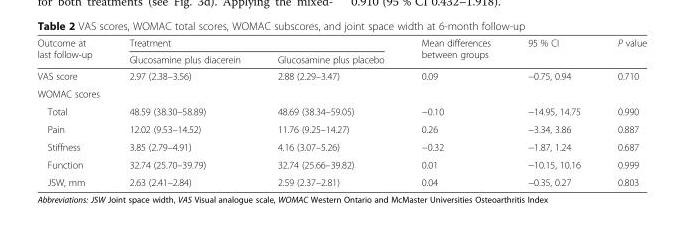table: (36, 36, 646, 187)
table column: (110, 36, 258, 187), (258, 36, 402, 187), (402, 36, 508, 187), (508, 36, 598, 187), (36, 36, 110, 187), (598, 36, 646, 187)
table column header: (36, 36, 646, 67)
table projected row header: (36, 84, 646, 102)
table row: (36, 84, 646, 102), (36, 119, 646, 137), (36, 137, 646, 155), (36, 50, 646, 67), (36, 67, 646, 84), (36, 102, 646, 119), (36, 155, 646, 172), (36, 172, 646, 187), (36, 36, 646, 50)
table spanning cell: (110, 36, 402, 50), (402, 36, 508, 67), (508, 36, 598, 67), (36, 36, 110, 67), (598, 36, 646, 67)
